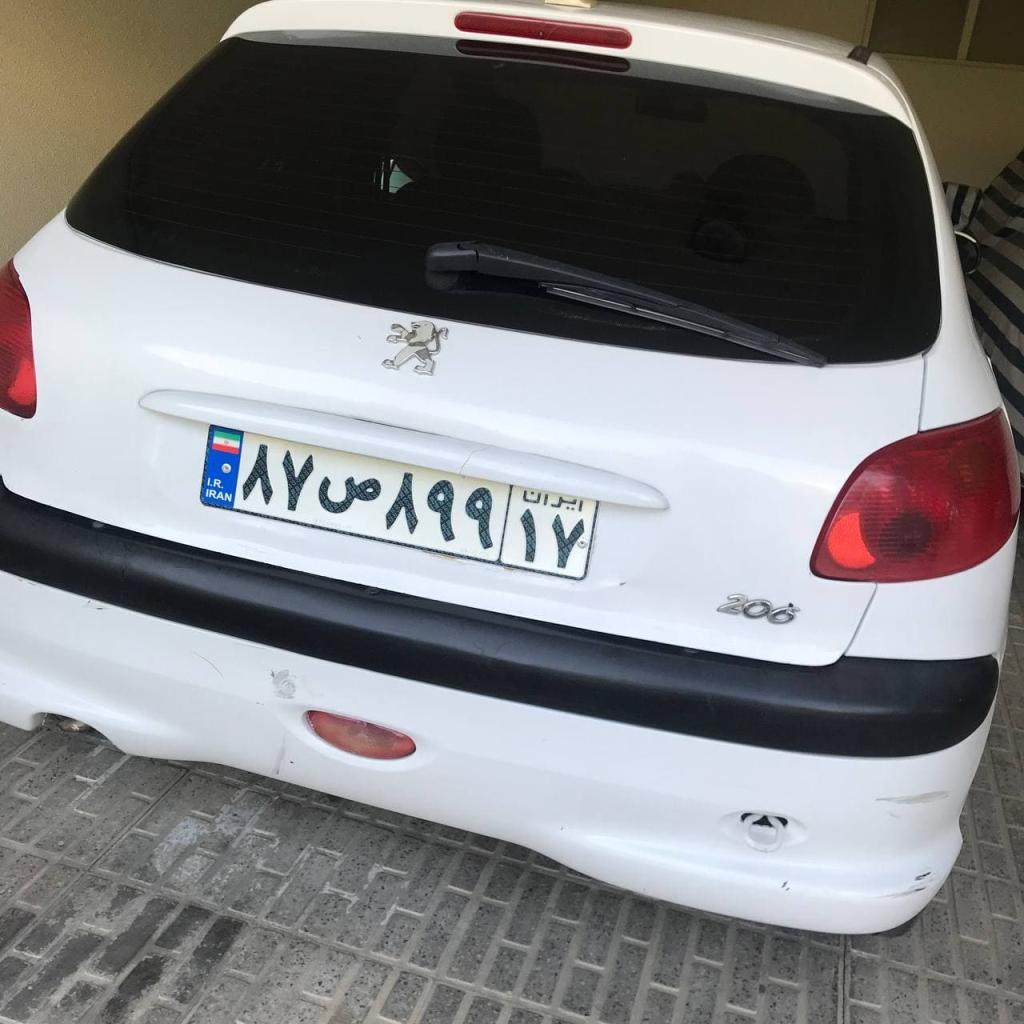Plates: (199, 424, 599, 580)
